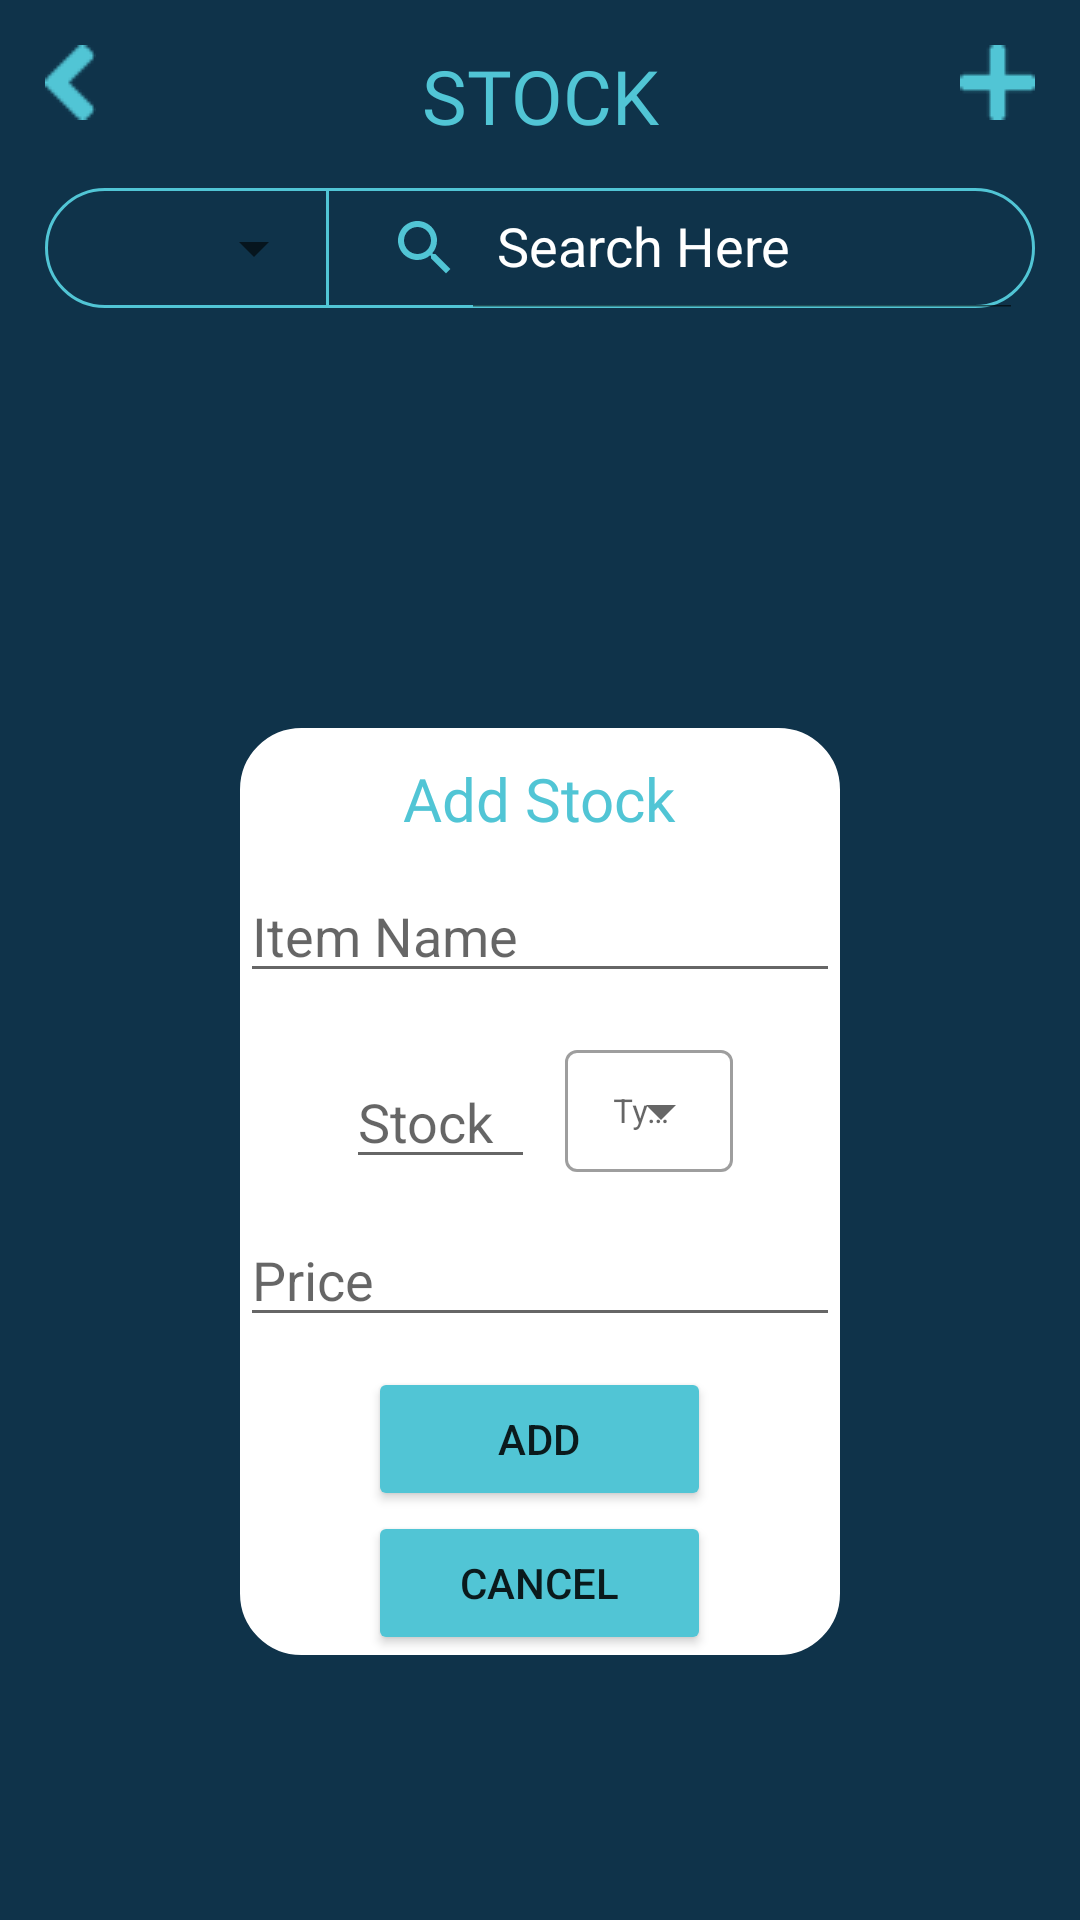

Icon bounding boxes for this 1080px×1920px phone screenshot, format (x1, y1, x2, y2):
back arrow: (45, 45, 94, 120)
plus: (960, 45, 1035, 120)
